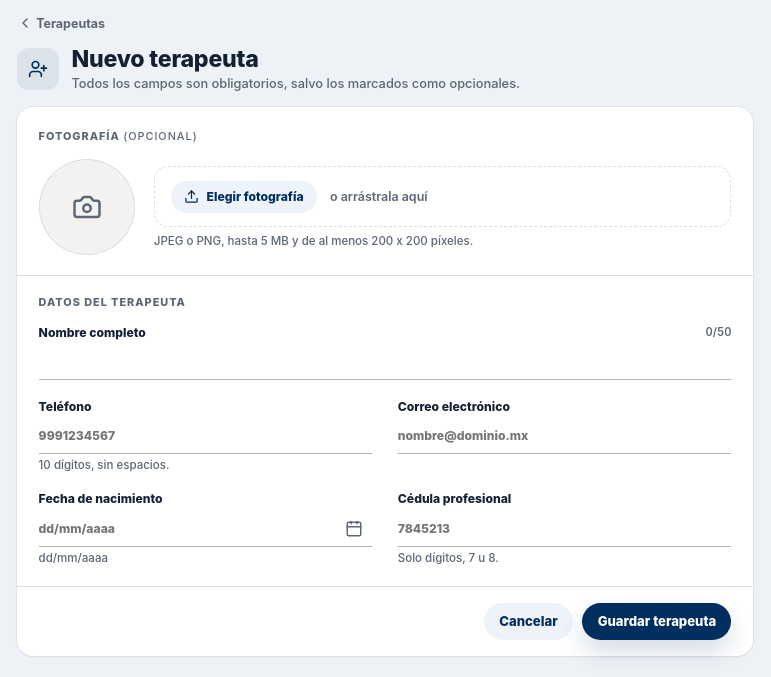
Test case: registro de terapeutas (EDT 4.3.4) › rechaza cédula profesional con longitud inválida (RF 2.1.14, CA-2.1-07)
Type "12345" into the field labelled "Cédula profesional". click: (565, 529)
box: [398,511,731,547]
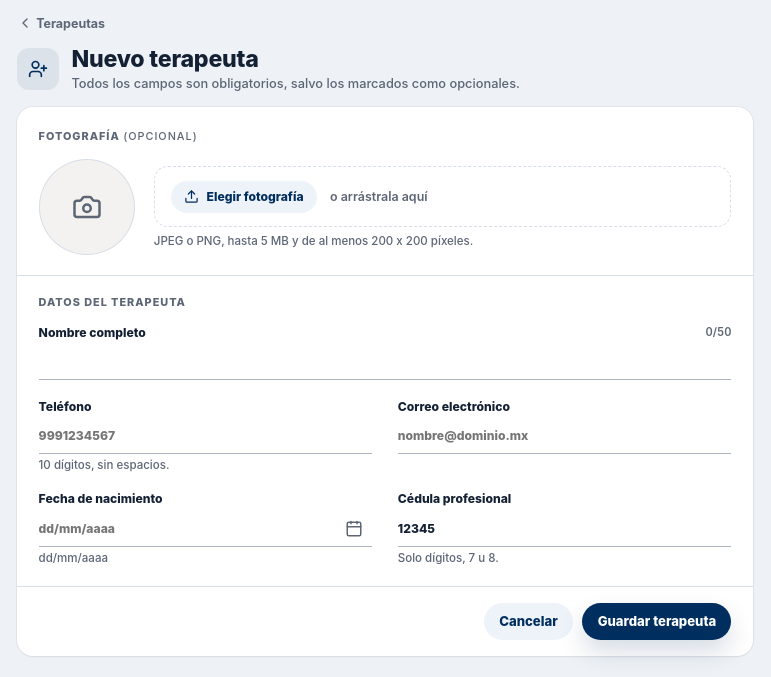
Leave the field labelled "Cédula profesional", box [398,511,731,547]
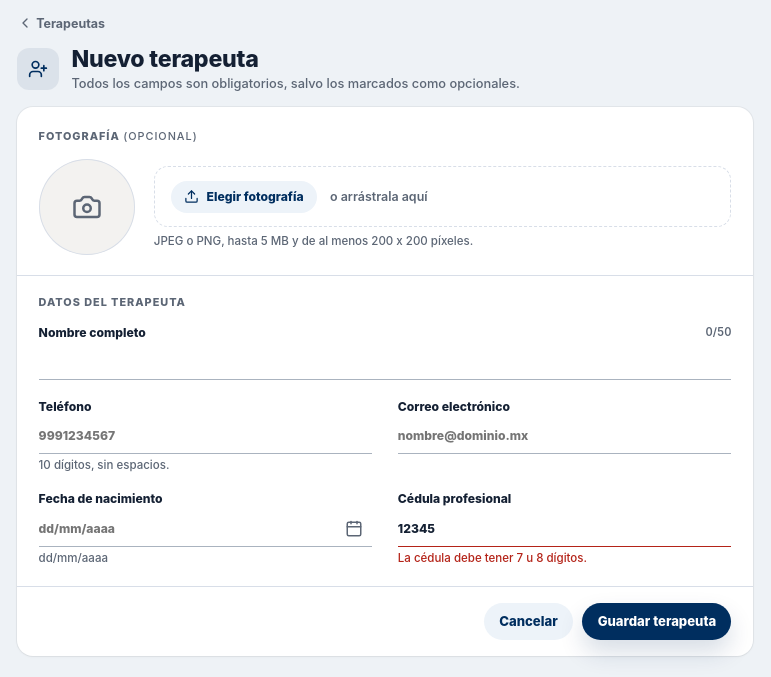
Expected: the text "La cédula debe tener 7 u 8 dígitos." is shown, [398,551,587,565]
